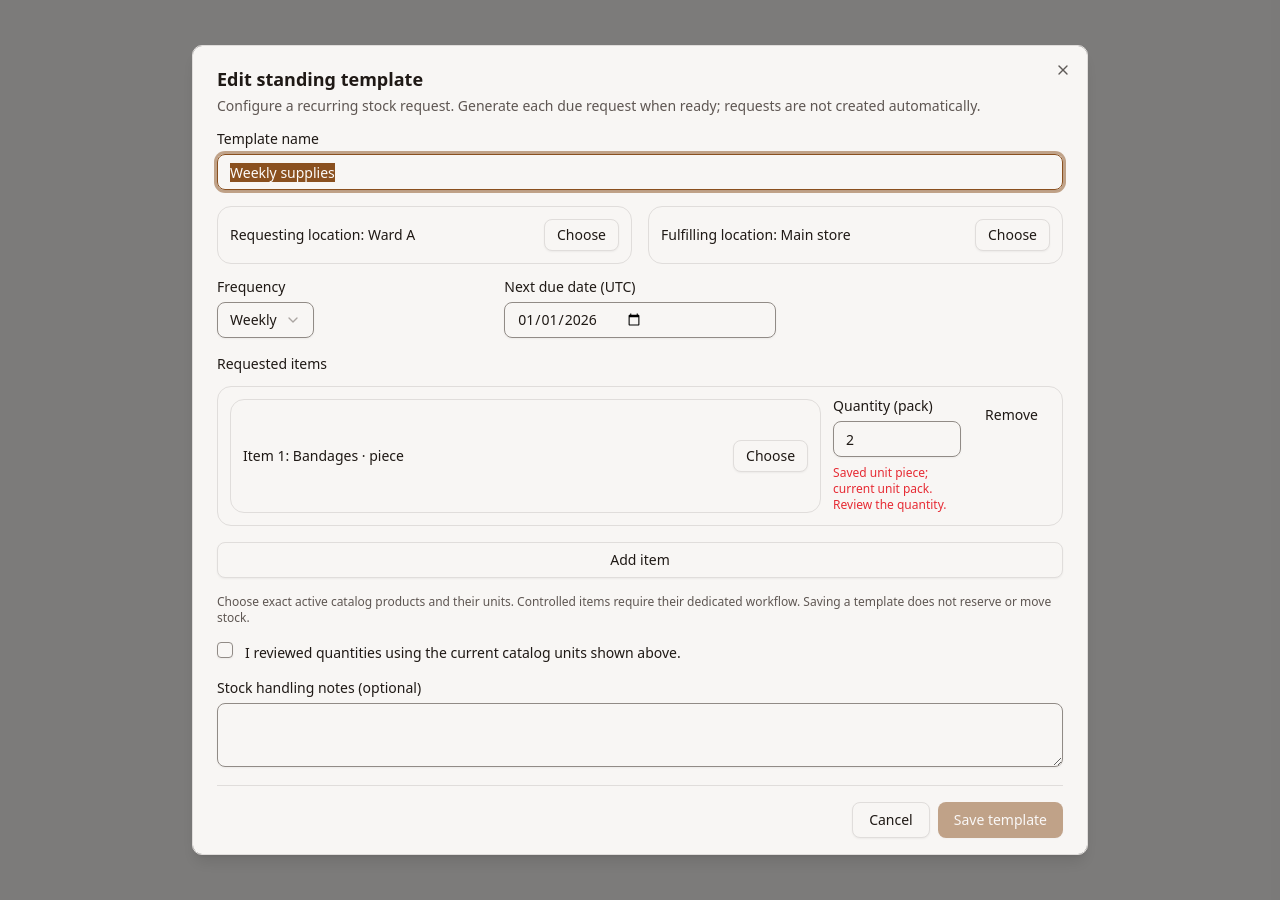
it: standing template workflows › requires explicit changed-unit quantity review and sends expected version and current unit
This screenshot has width=1280, height=900.
Expected: the button "Save template" is disabled, [938, 802, 1063, 838]
Expected: the text "Saved unit piece; current unit pack. Review the quantity." is shown, [833, 465, 961, 513]
Click the checkbox named "reviewed quantities".
click(225, 650)  # box [217, 642, 233, 658]
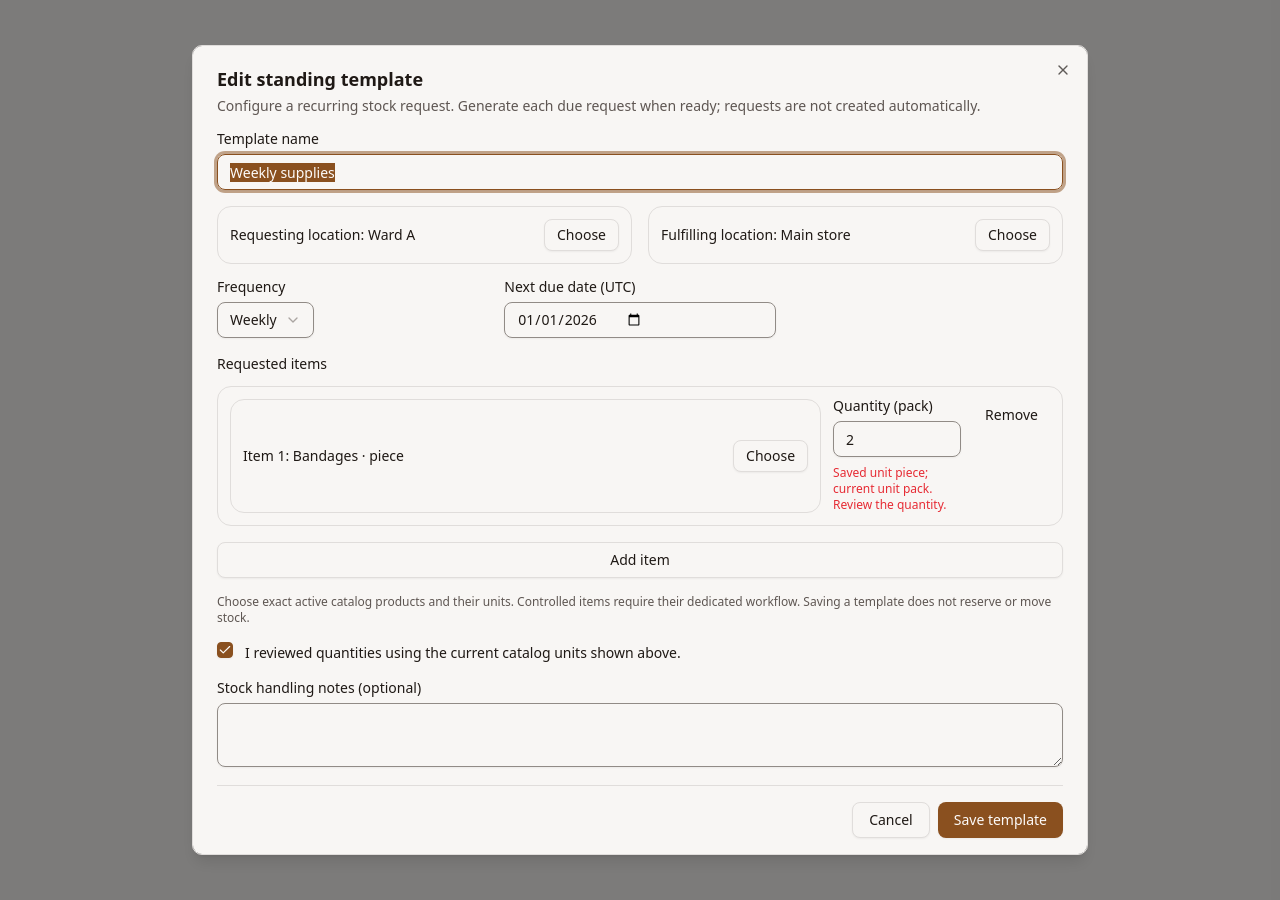
Click the button "Save template".
click(1000, 820)  # box [938, 802, 1063, 838]
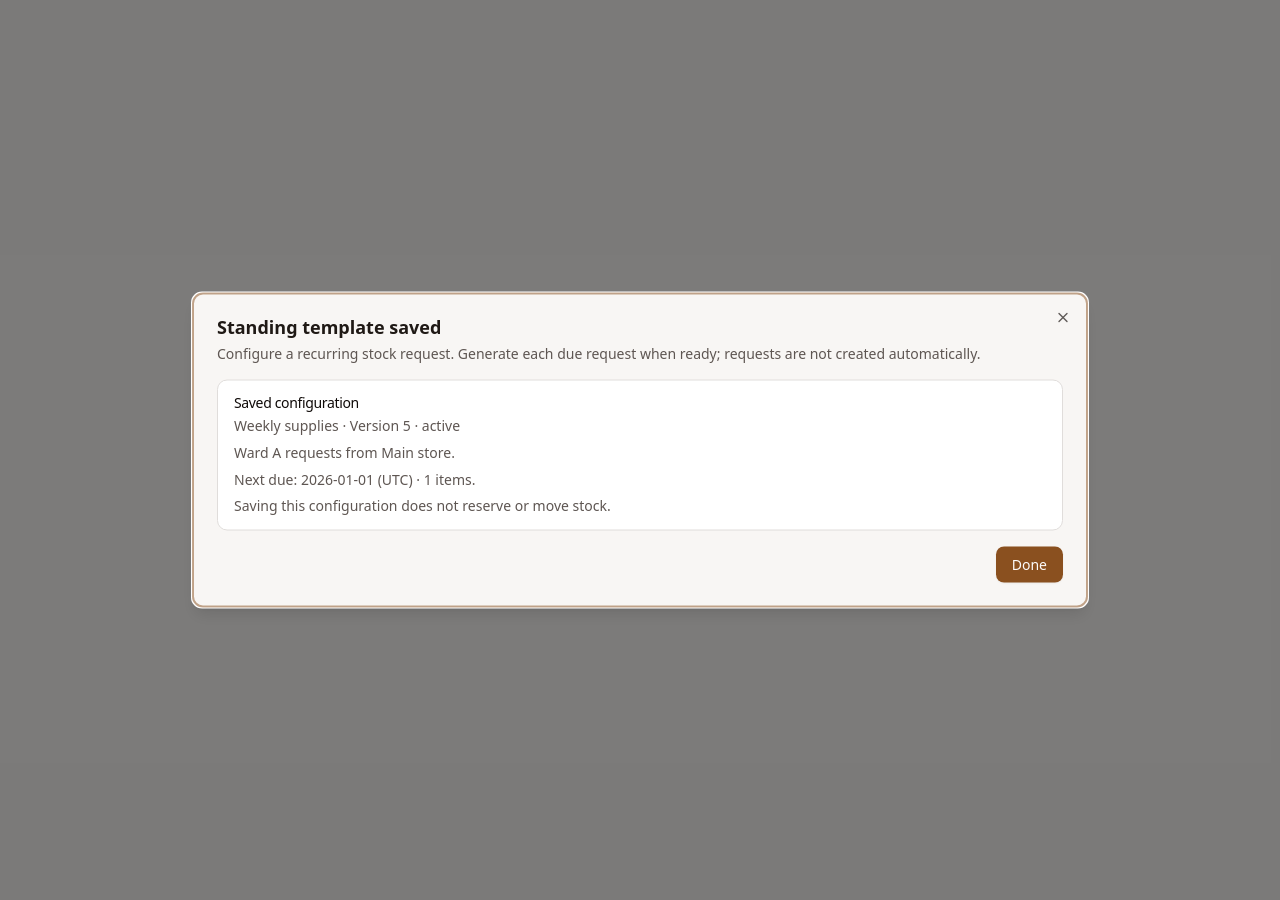
Expected: the text "Saved configuration" is shown, [234, 392, 359, 412]
